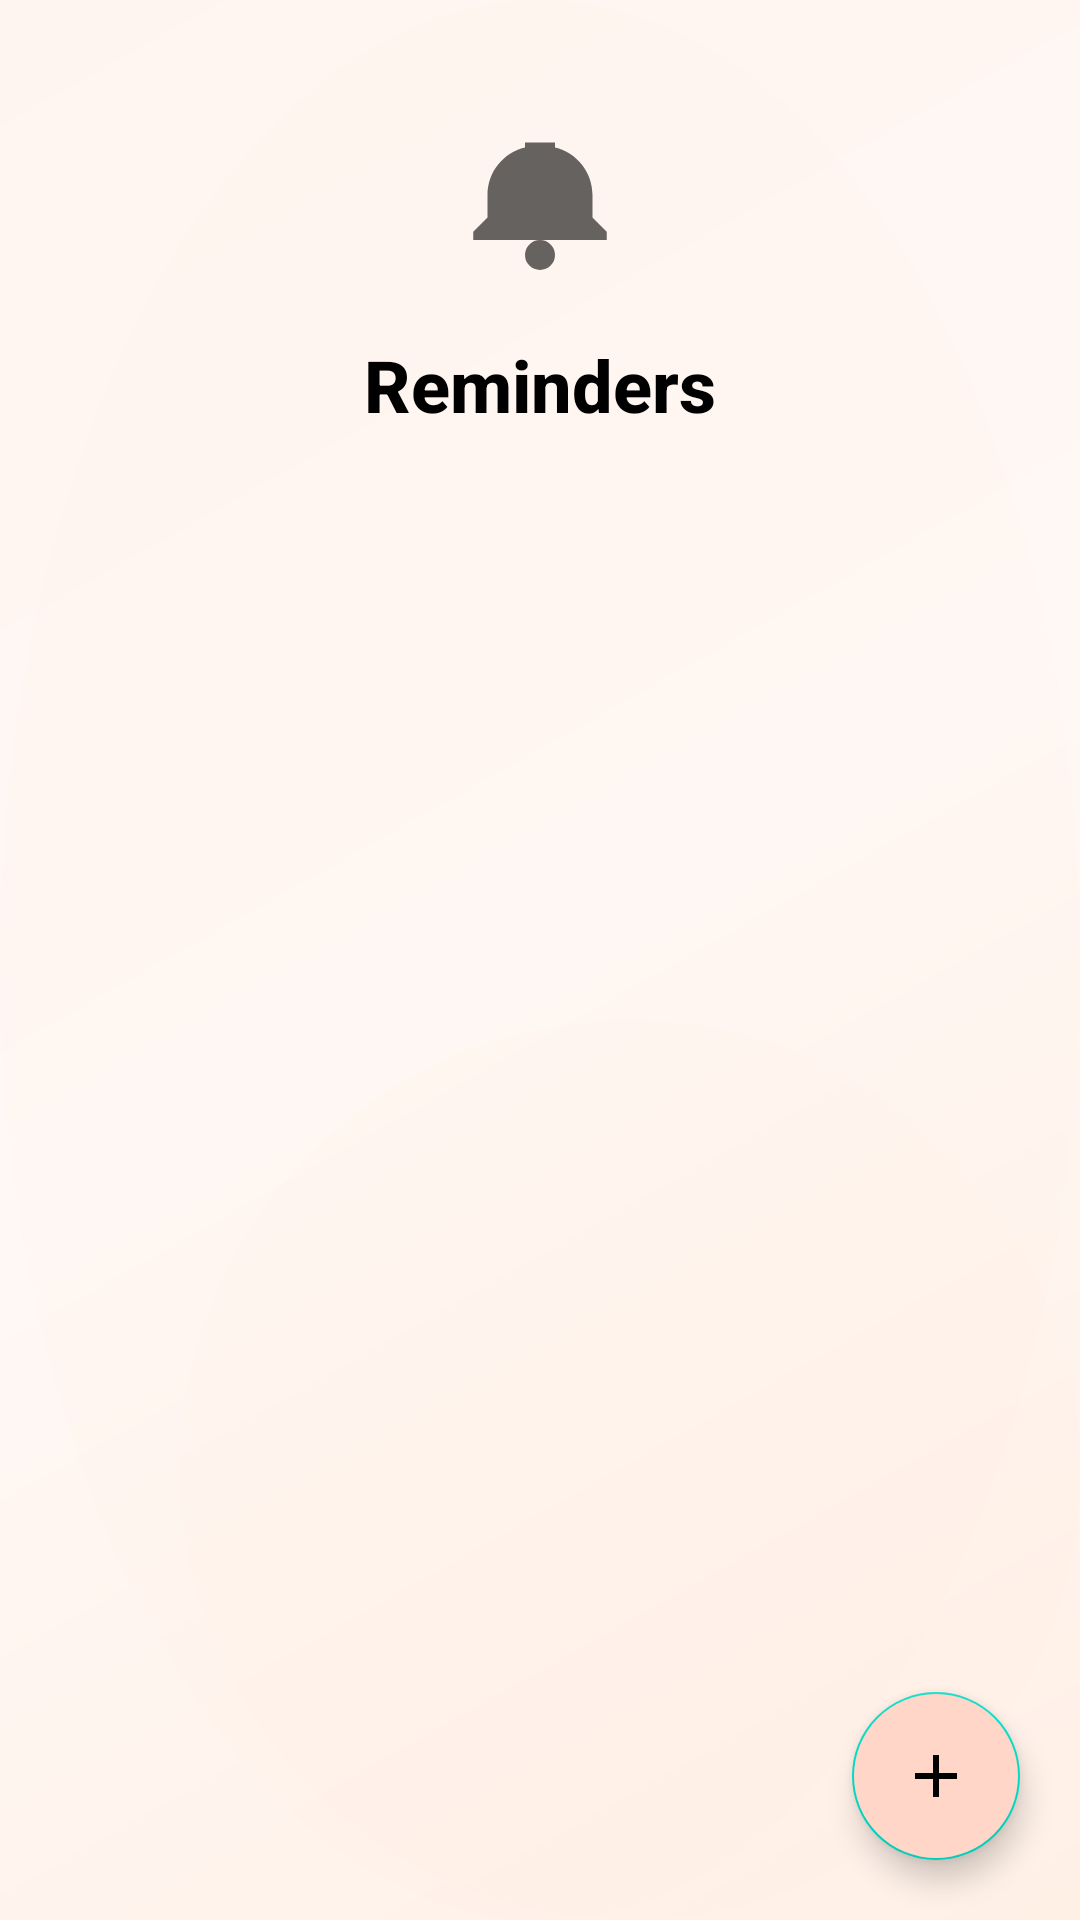

Screen size 1080 × 1920. Icon name, then its center in pixels as (x=x, y=y):
Add reminder: (x=936, y=1776)
